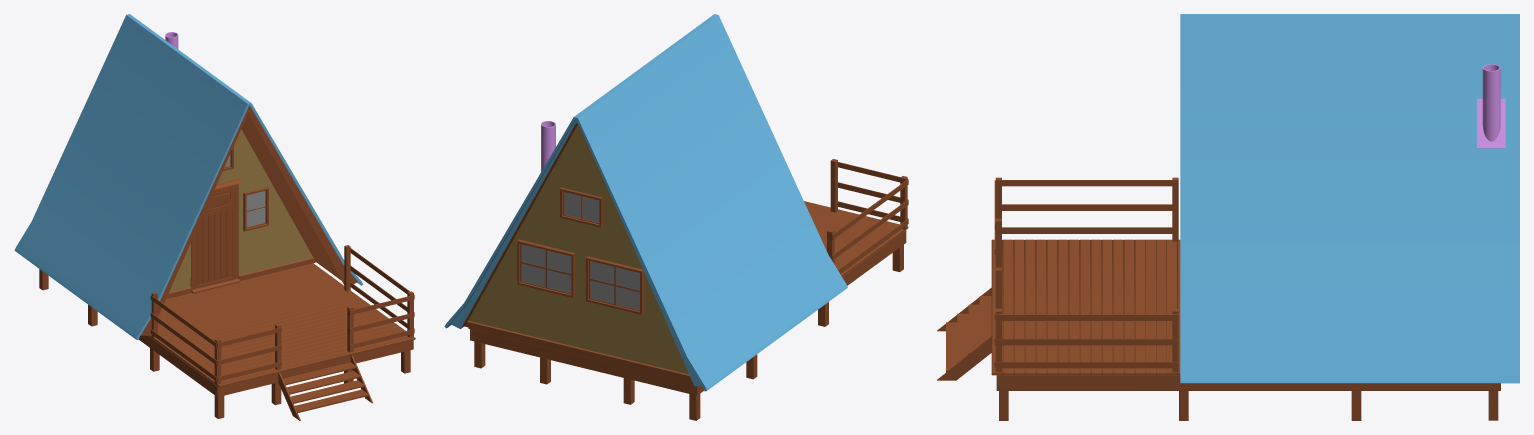
The model's file is muwu2.FBX.
3 renders of one model, left to right at view 1: azimuth 30°, elevation 25°; view 2: azimuth 150°, elevation 25°; view 3: azimuth 270°, elevation 25°, orthographic. The views are drawn at different scales.
Visible parts, largest first — view 1: HouseAFrame_RoofTiles, HouseAFrame_WoodDark (×2), HouseAFrame_Wood_Beams, HouseAFrame_PlasterYellow, HouseAFrame_Glass; view 2: HouseAFrame_RoofTiles, HouseAFrame_PlasterYellow, HouseAFrame_WoodDark, HouseAFrame_Wood_Beams, HouseAFrame_Glass, HouseAFrame_Metal_Pitted; view 3: HouseAFrame_RoofTiles, HouseAFrame_WoodDark, HouseAFrame_Metal_Pitted.
Boxes of the visible parts, x1,y1,x2,y2 form: HouseAFrame_RoofTiles: (14,14,363,339); HouseAFrame_WoodDark (×2): (39,179,415,420); HouseAFrame_Wood_Beams: (140,105,357,336); HouseAFrame_PlasterYellow: (169,129,312,292); HouseAFrame_Glass: (224,154,265,226); HouseAFrame_RoofTiles: (444,14,847,391); HouseAFrame_PlasterYellow: (468,124,688,374); HouseAFrame_WoodDark: (468,159,908,420); HouseAFrame_Wood_Beams: (461,123,692,381); HouseAFrame_Glass: (521,192,639,310); HouseAFrame_Metal_Pitted: (541,121,555,171); HouseAFrame_RoofTiles: (1180,14,1519,383); HouseAFrame_WoodDark: (937,177,1500,420); HouseAFrame_Metal_Pitted: (1477,64,1505,148).
Size of the model in its own units: 5.49 by 5.64 by 8.75.
